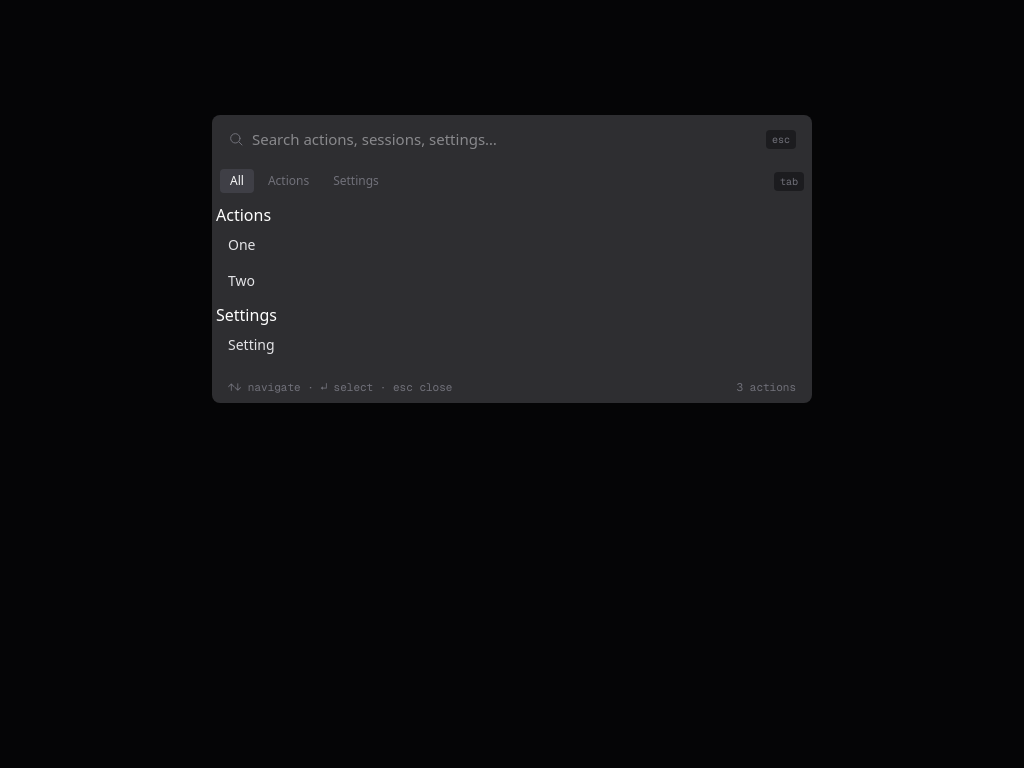
Test: CommandPalette › category tabs › reflects the active tab's count in the footer
Check: the text "3 actions" is shown, box [737,379,796,395]
Click the tab "Settings" at (356, 181), box [323,169,389,193]
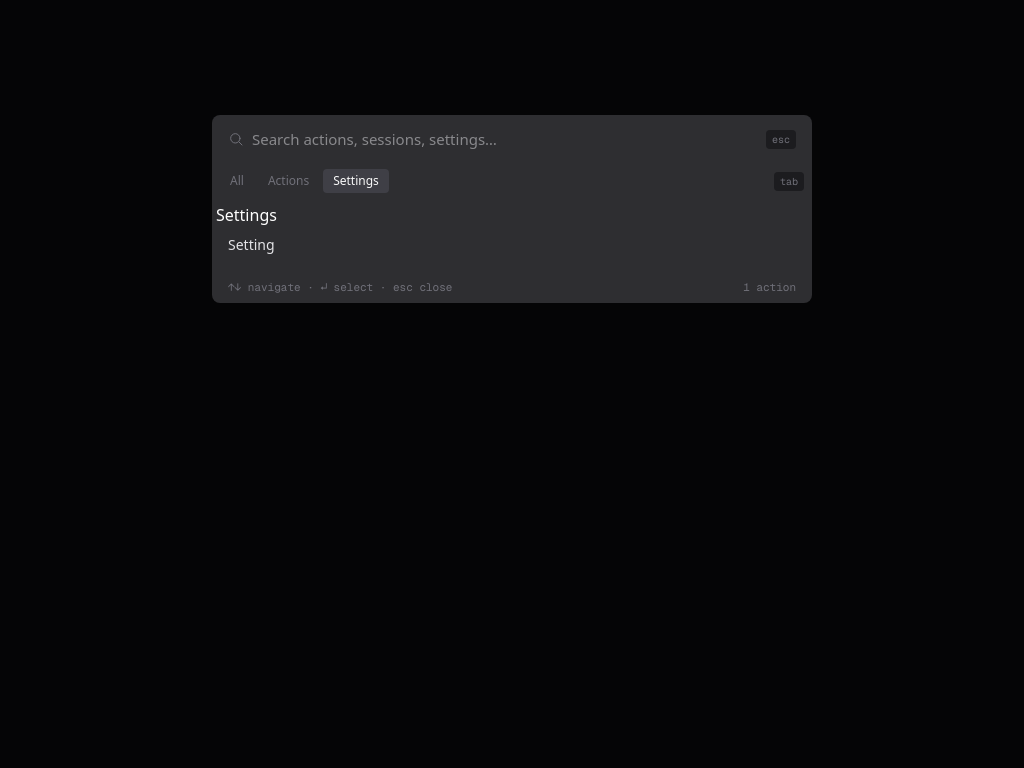
Check: the text "1 action" is shown, box [743,279,796,295]
